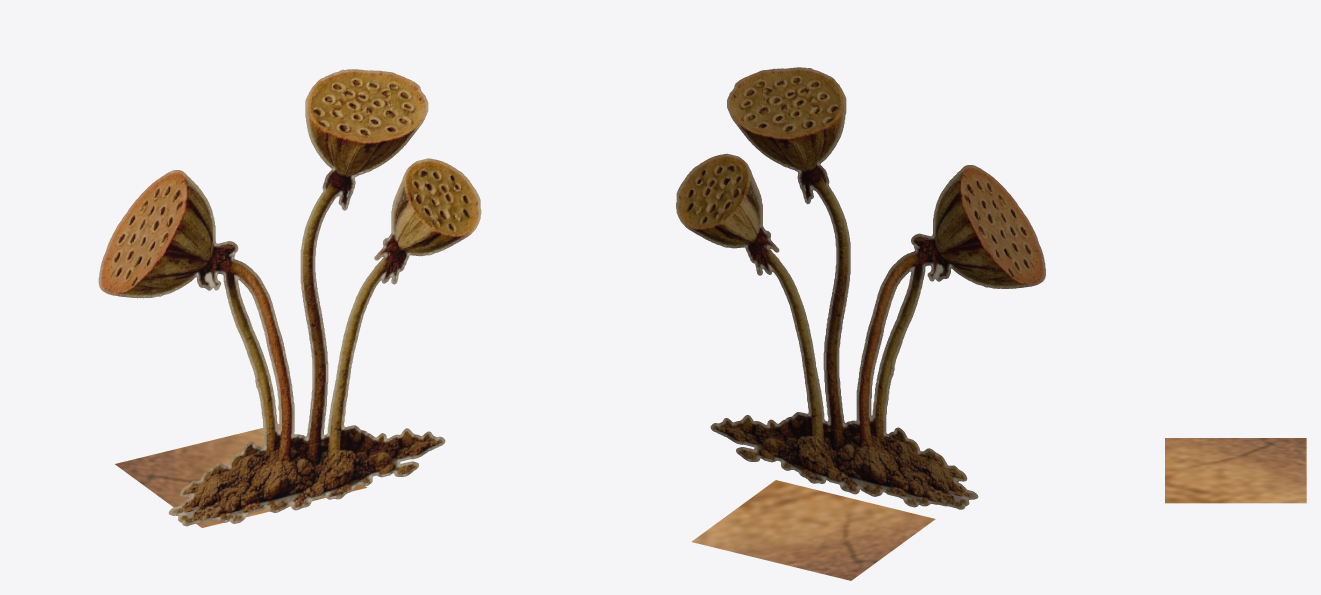
Rendered from toad-prop-lotus-dry.glb.
3 views of the same model, side by side, from view 1: azimuth 30°, elevation 25°; view 2: azimuth 150°, elevation 25°; view 3: azimuth 270°, elevation 25° (orthographic). The views are drawn at different scales.
Visible parts, largest first — view 1: lotus-dry; view 2: lotus-dry; view 3: lotus-dry.
Part boxes in pixels (box(x1,y1,x2,y2)): lotus-dry: box(98, 69, 481, 527); lotus-dry: box(676, 67, 1045, 580); lotus-dry: box(1165, 438, 1306, 503).
Bounding box in the file's own units: 0.12 × 0.09 × 0.035.
1 material, 1 textured.
